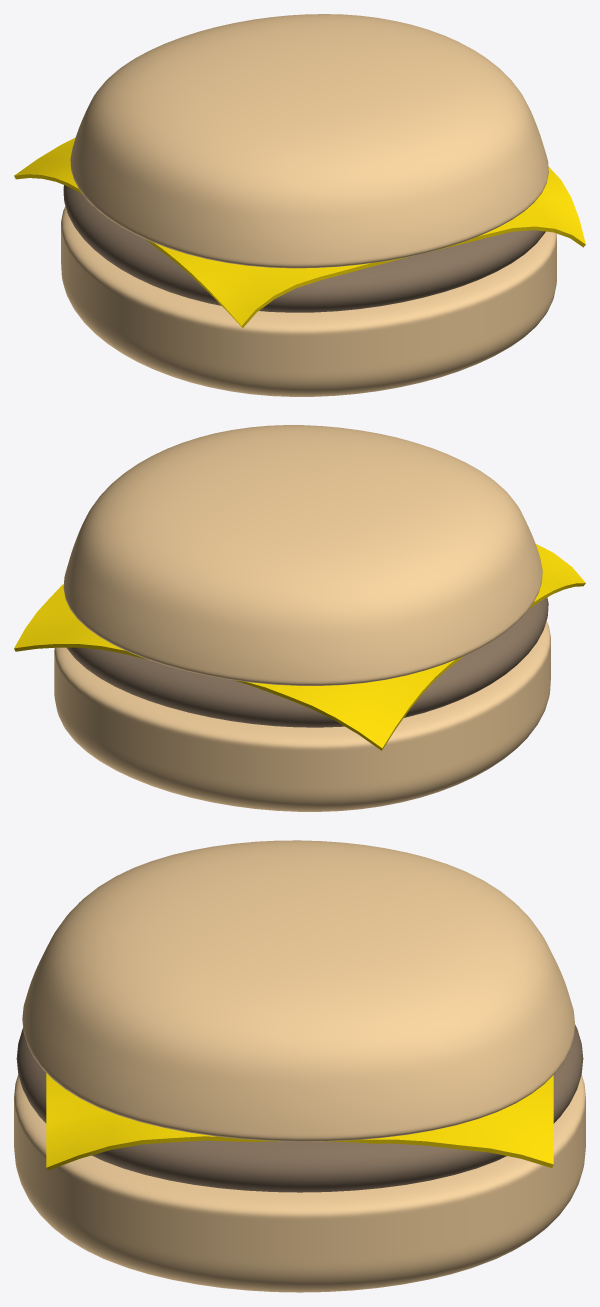
Rendered from hamburger.glb.
The picture shows the model from 3 angles, top to bottom: view 1: azimuth 30°, elevation 25°; view 2: azimuth 150°, elevation 25°; view 3: azimuth 270°, elevation 25°; orthographic projection. The views are drawn at different scales.
Visible parts, largest first — view 1: Cube.002, Cube, Cube.001, Plane; view 2: Cube.002, Cube, Cube.001, Plane; view 3: Cube.002, Cube, Cube.001, Plane.
Boxes of the visible parts, bbox=[...] form: Cube.002: bbox=[70, 14, 548, 268]; Cube: bbox=[61, 206, 556, 396]; Cube.001: bbox=[63, 185, 545, 312]; Plane: bbox=[14, 137, 585, 327]; Cube.002: bbox=[63, 425, 542, 685]; Cube: bbox=[54, 621, 550, 811]; Cube.001: bbox=[66, 597, 548, 727]; Plane: bbox=[14, 544, 585, 750]; Cube.002: bbox=[22, 840, 574, 1141]; Cube: bbox=[14, 1075, 585, 1292]; Cube.001: bbox=[16, 1024, 583, 1192]; Plane: bbox=[46, 1073, 553, 1170].
Bounding box in the file's own units: 9.09 × 5.29 × 9.09.
